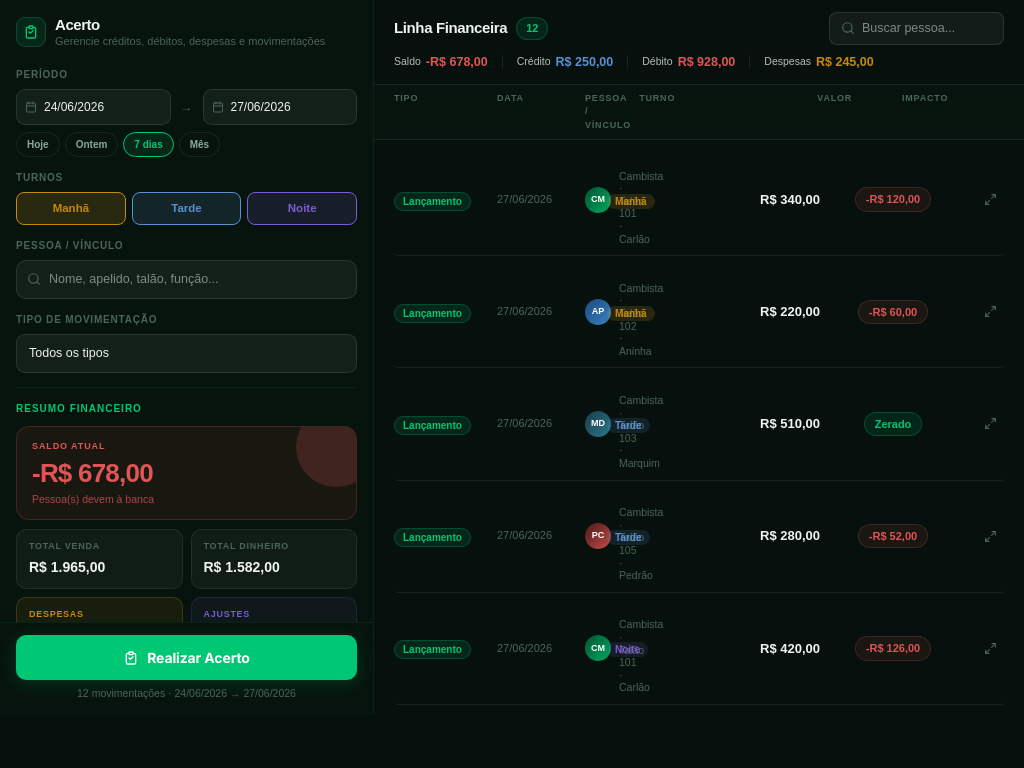
Test: AcertoPage › confirmar um acerto exibe o comprovante com operador e banca REAIS da sessão (não hardcoded)
Click the button "Realizar Acerto" at [186, 658], box [16, 635, 357, 680]
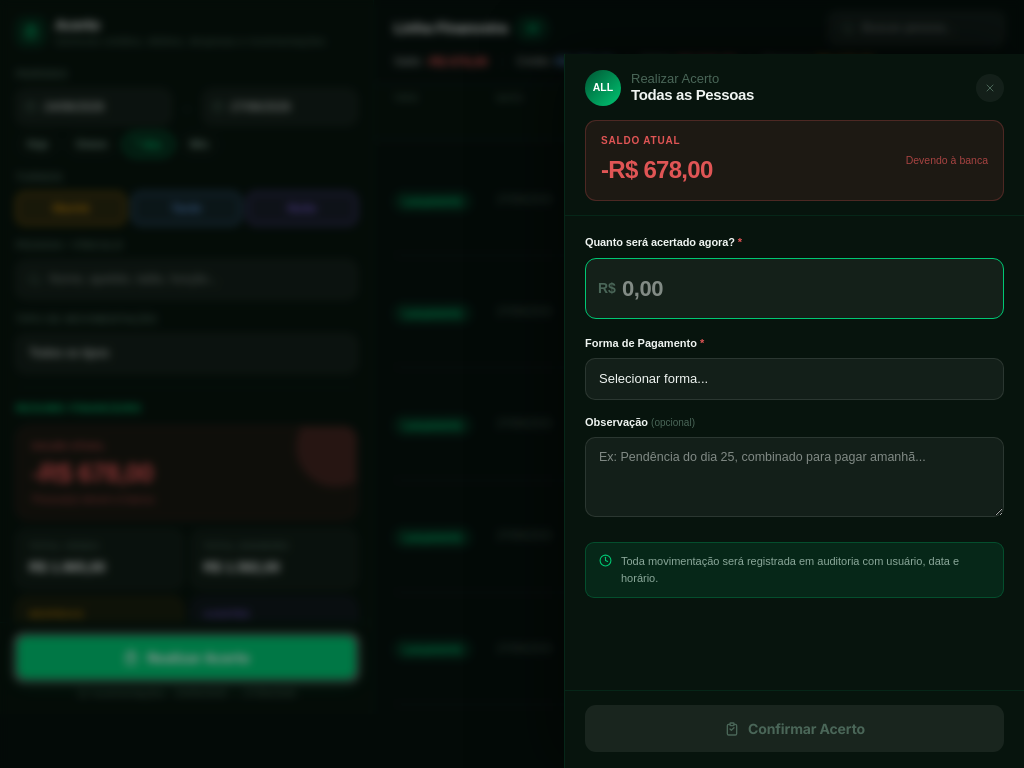
Drawer aberto: preenche valor e forma de pagamento.
Type "50" into the number field with placeholder "0,00" at [794, 288], box [585, 258, 1004, 318]
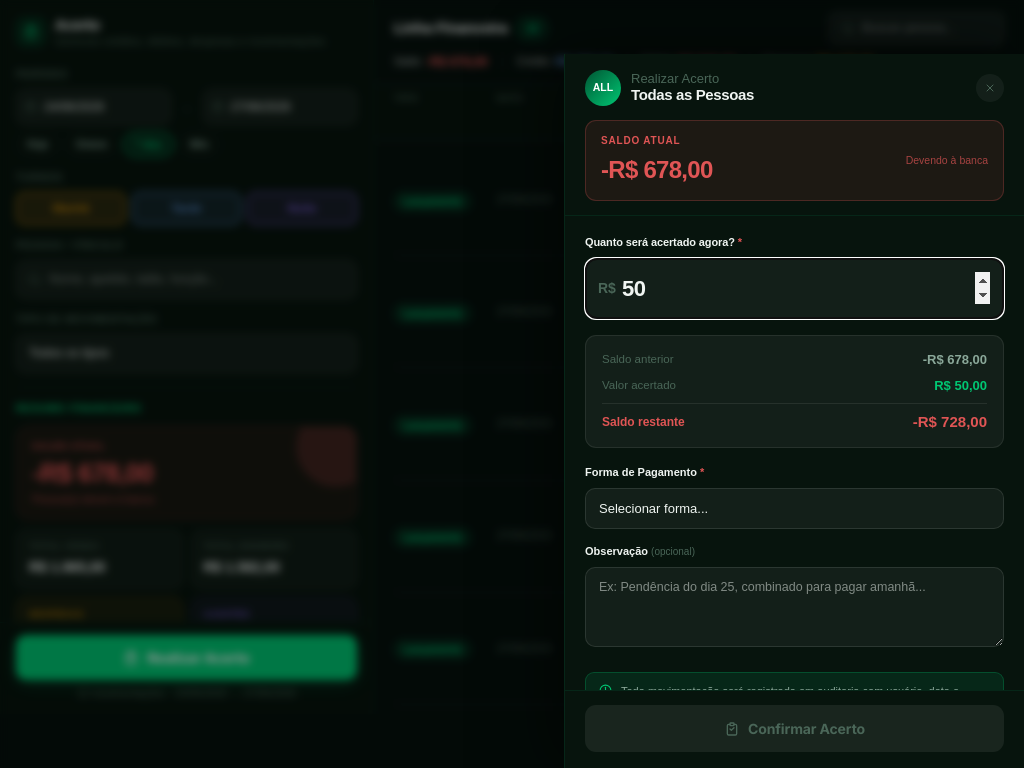
Select "Dinheiro" in the dropdown showing "Selecionar forma..." at [794, 508], box [585, 488, 1004, 529]
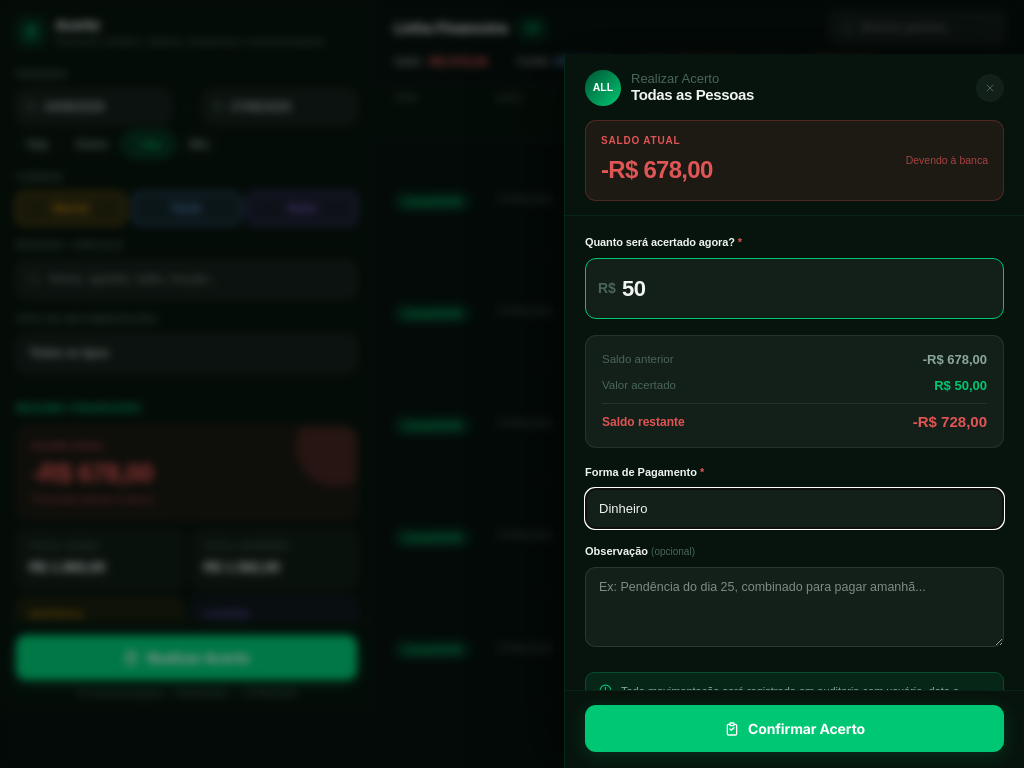
Click the button "Confirmar Acerto" at [794, 728], box [585, 705, 1004, 752]
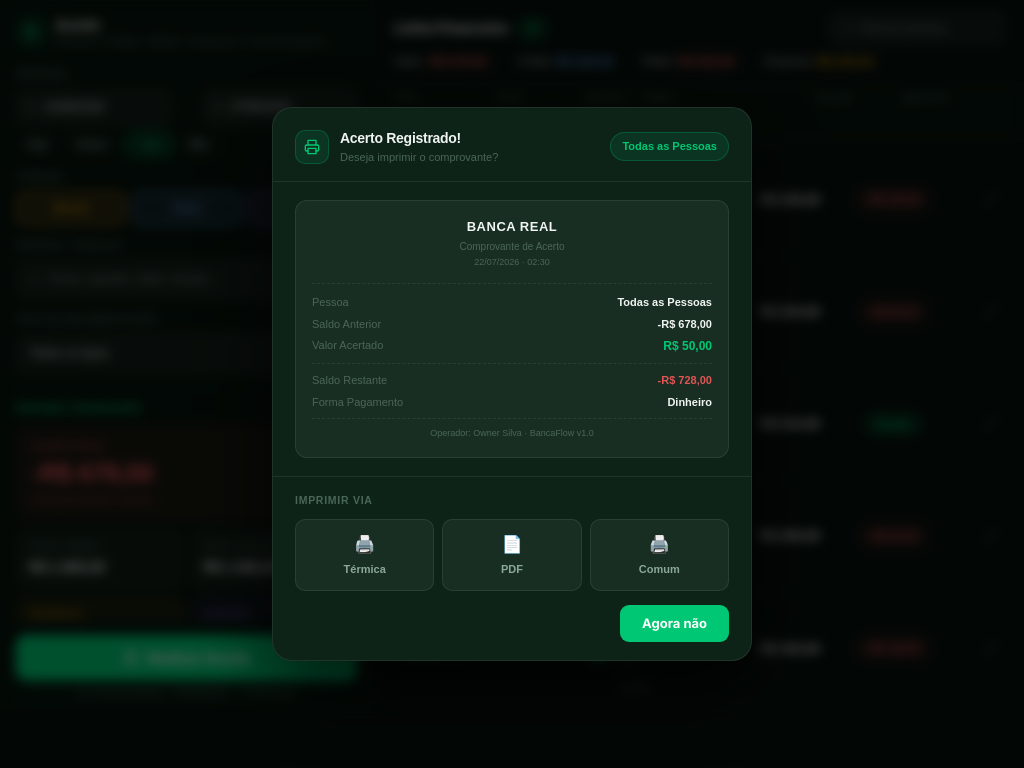
Now the text "Acerto Registrado!" is shown, box [340, 130, 461, 146]
Now the text "BANCA REAL" is shown, box [467, 219, 557, 234]
